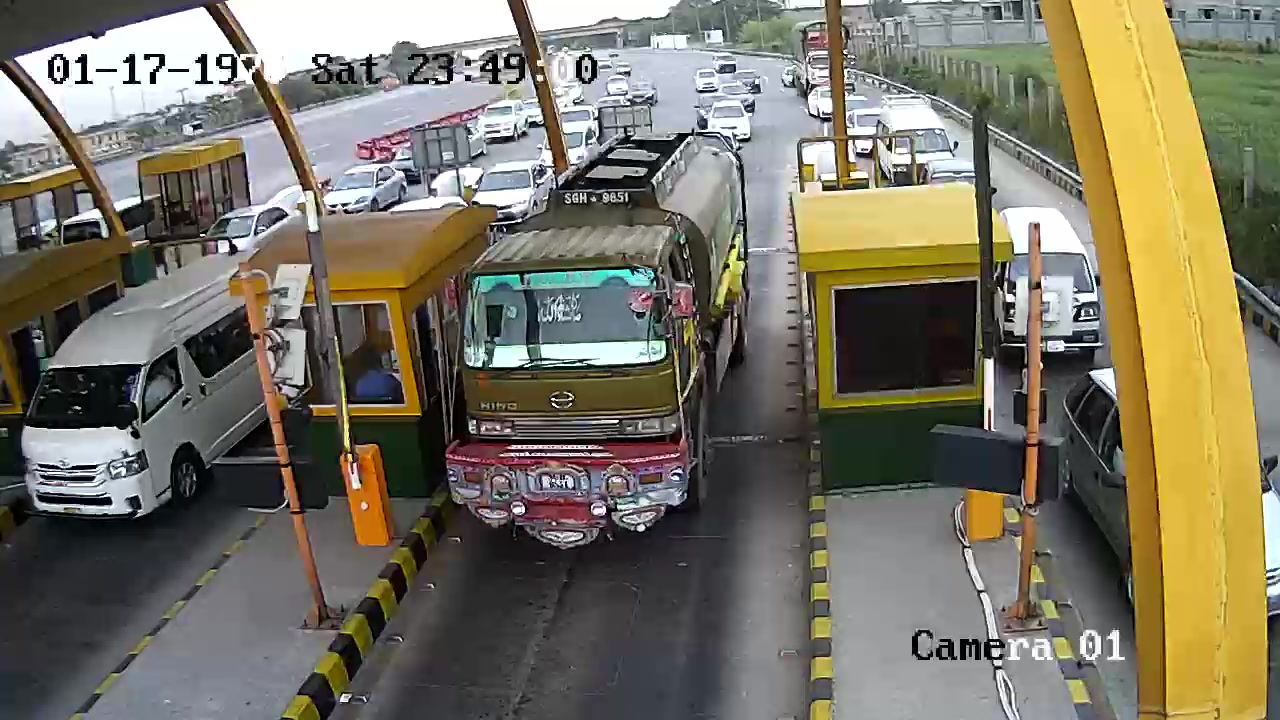F6: (437, 129, 762, 555)
